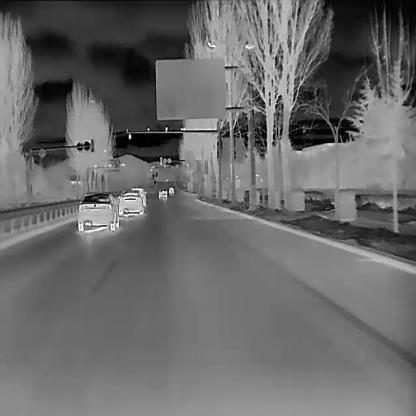car: (76, 190, 120, 231), (117, 188, 144, 214), (130, 185, 146, 205), (157, 187, 167, 198), (168, 186, 174, 194)
